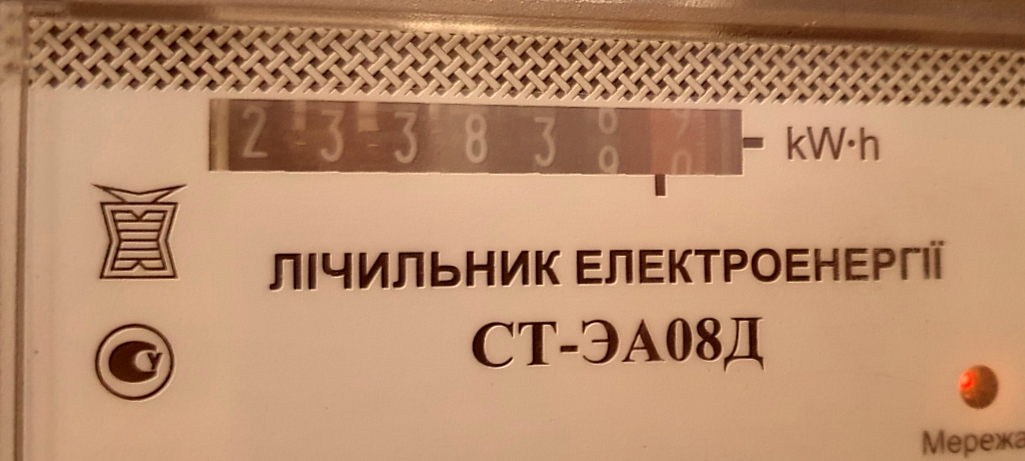0: (668, 147, 695, 182)
2: (235, 101, 275, 163)
3: (386, 105, 423, 169), (317, 105, 346, 164), (531, 111, 560, 168)
8: (458, 108, 493, 167), (595, 103, 622, 136)
9: (665, 104, 696, 143), (595, 142, 624, 179)
screen: (178, 63, 774, 234)
